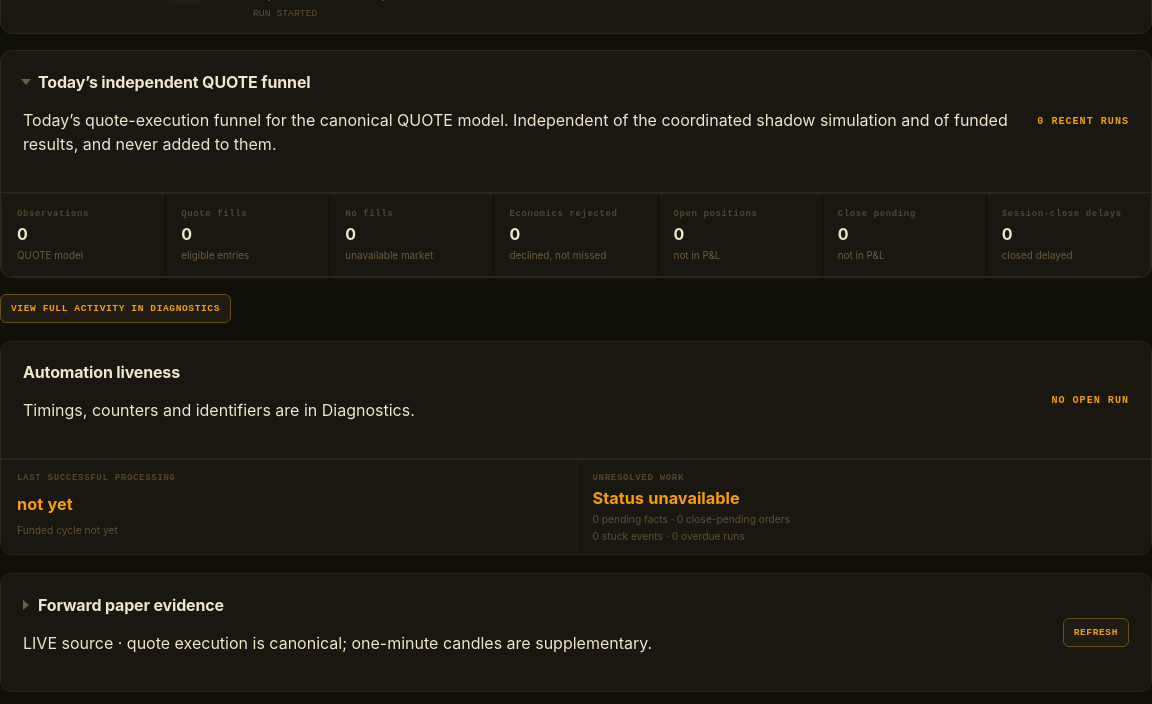
Test: BOT evidence dashboard › folds panels from their titles, defaults the filters folded, and remembers the fold
(page scrolled)
Step 1. Click the button "Forward paper evidence" → (123, 605), box [23,595,224,615]
(page scrolled)
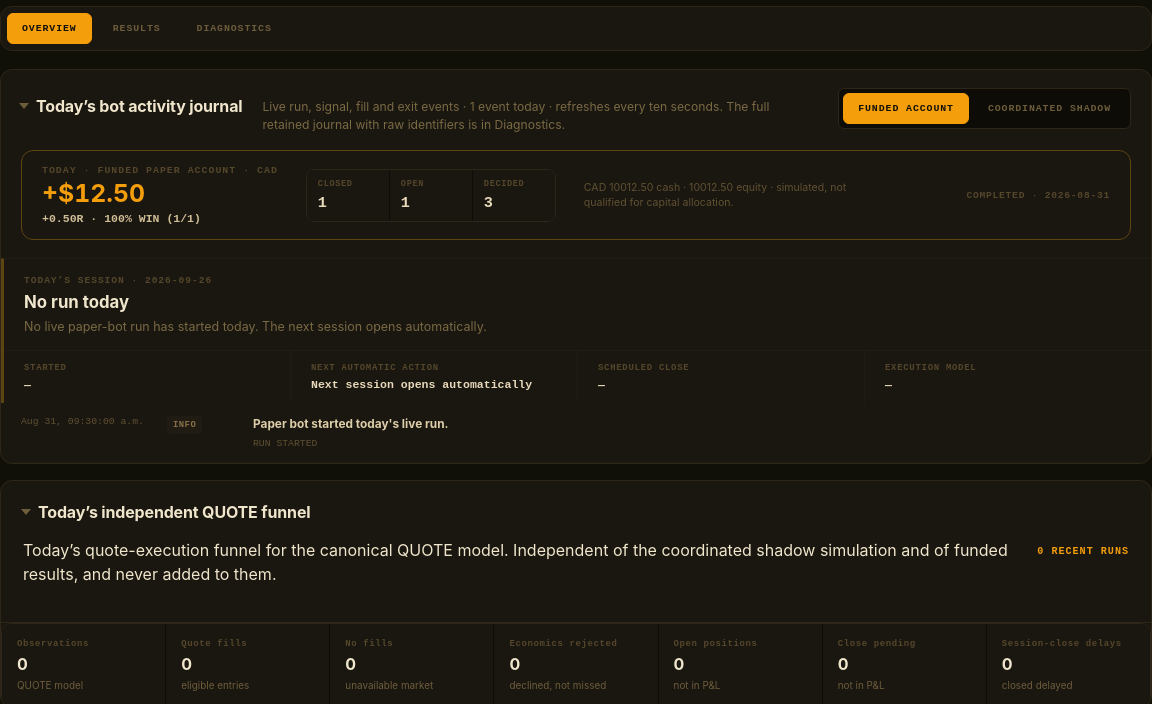
Step 2. Click the button "Results" → (137, 28), box [98,13,176,44]
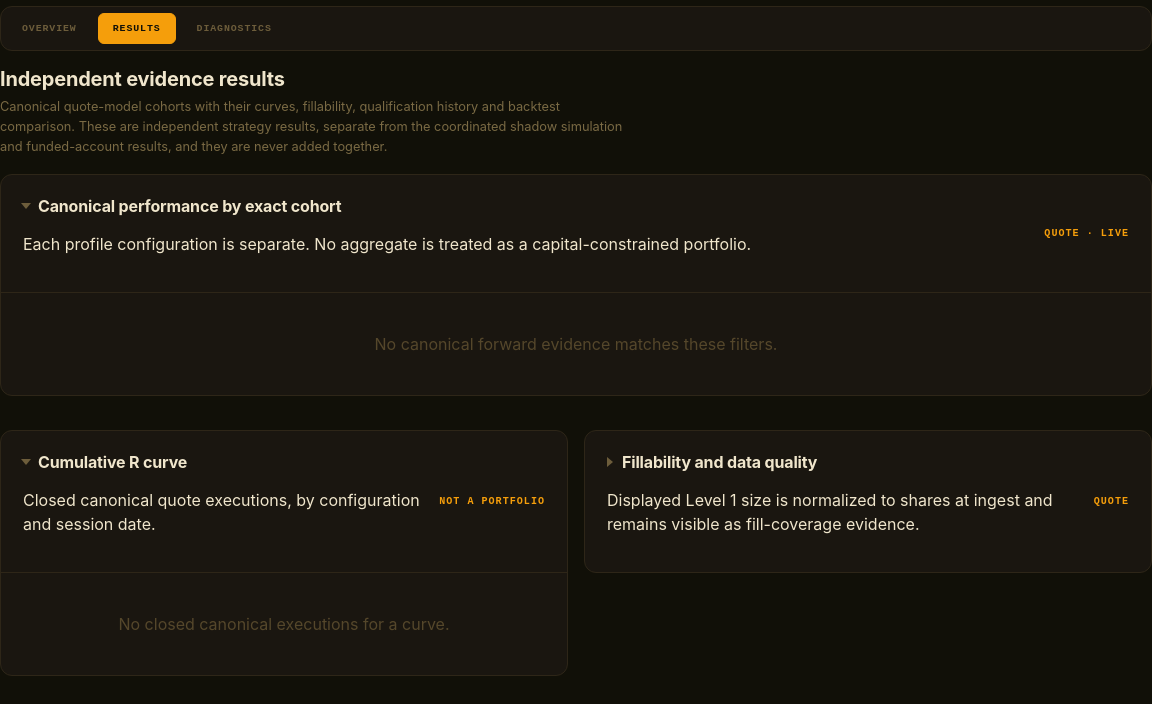
Step 3. Click the button "Fillability and data quality" → (712, 462), box [607,452,817,472]
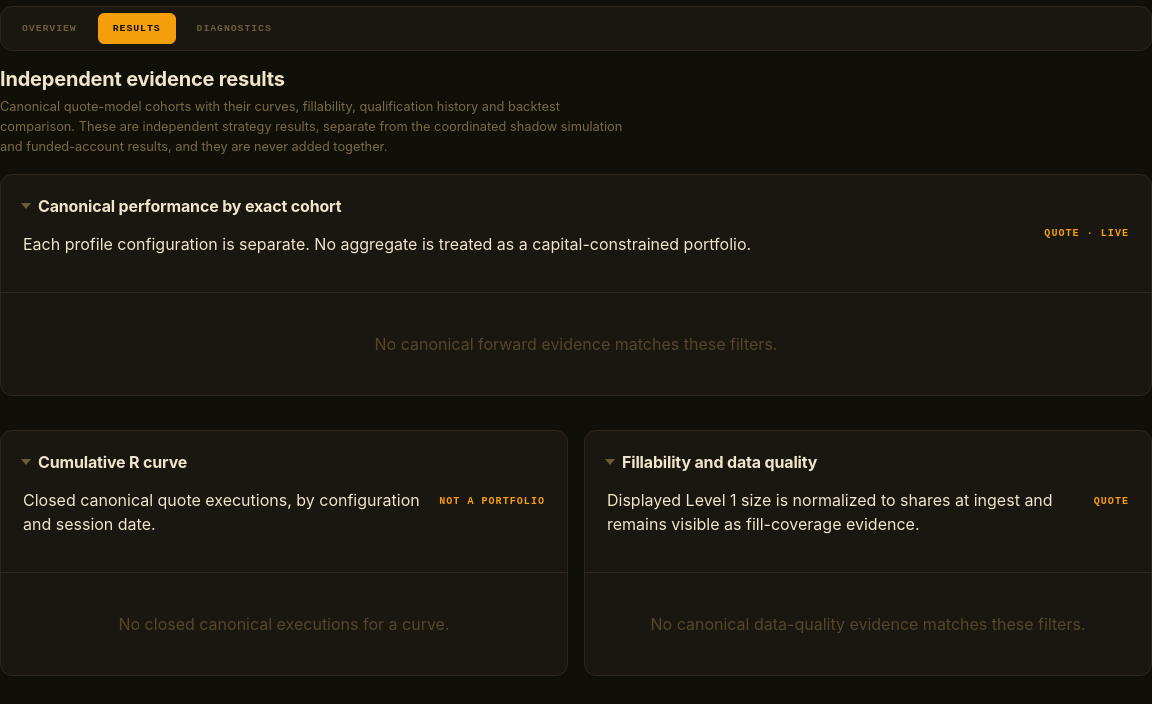
expect the button "Fillability and data quality" is expanded: met, box [607,452,817,472]
Step 4. Click the button "Diagnostics" → (234, 28), box [182,13,287,44]
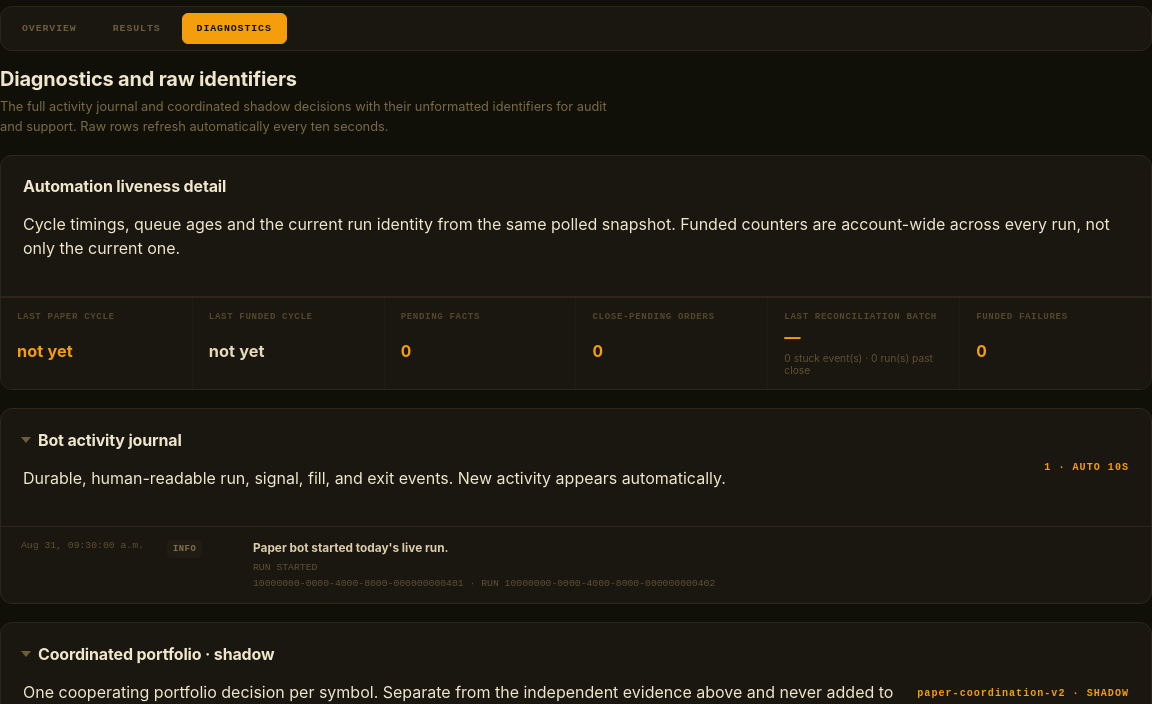
Step 5. Click the button "Bot activity journal" → (102, 440), box [23,430,182,450]
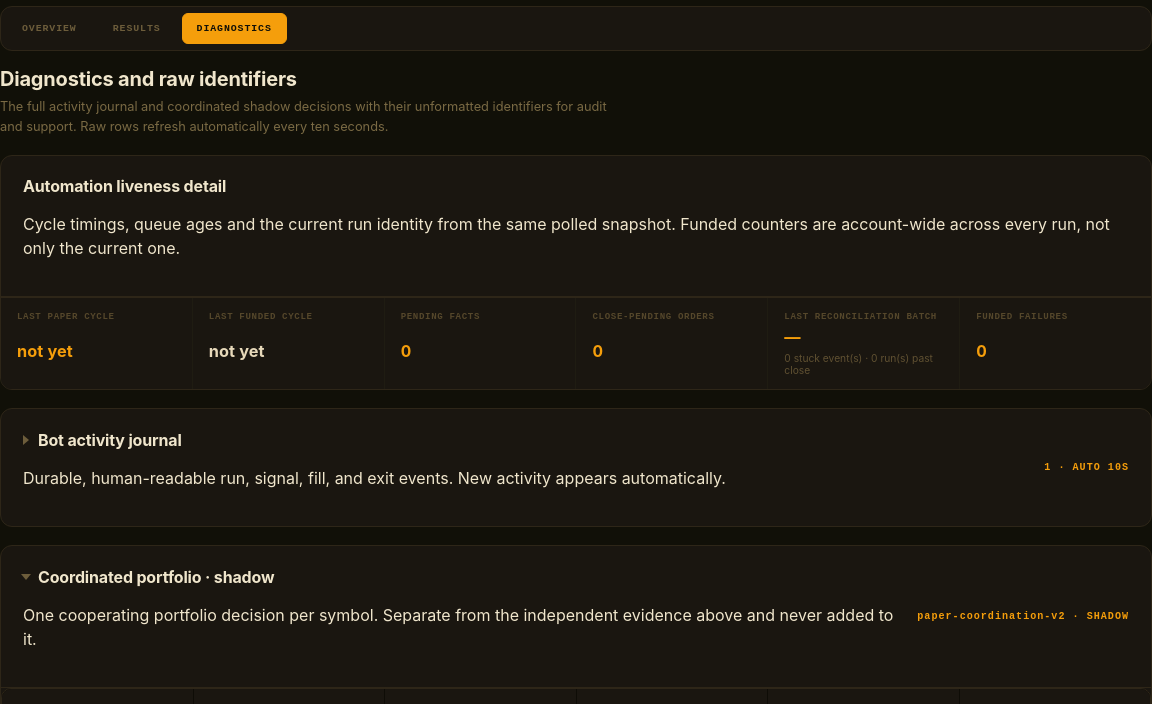
expect the button "Bot activity journal" is collapsed: met, box [23,430,182,450]
expect the text "Paper bot started today's live run." is gone: met
